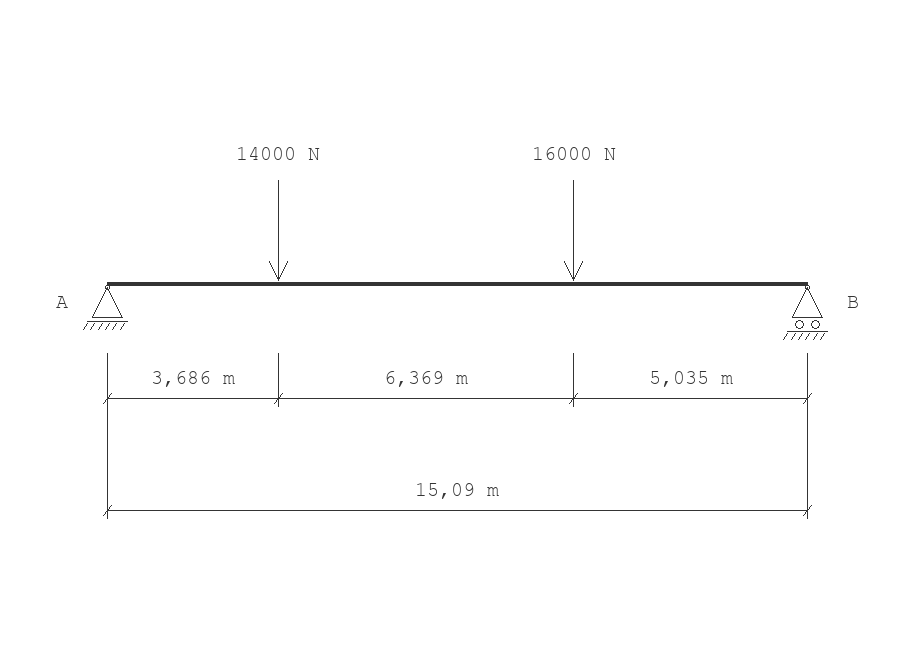pin_support: (83, 285, 128, 330)
point_load: (269, 180, 288, 281), (564, 180, 583, 281)
roller_support: (783, 285, 828, 340)
